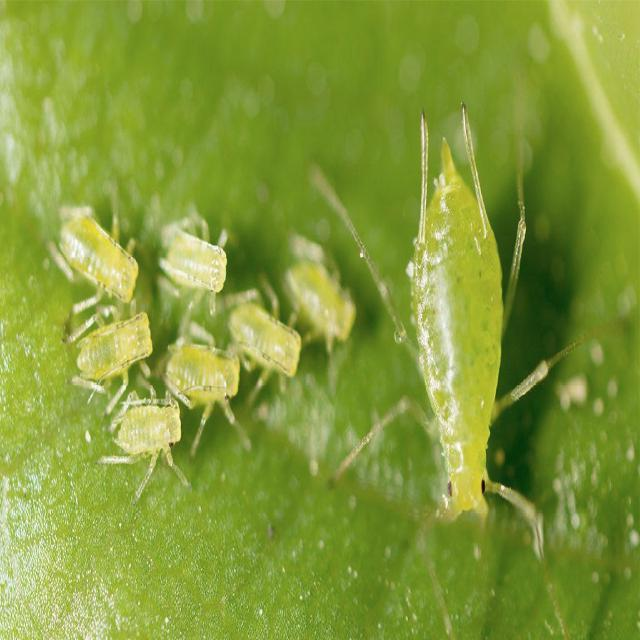aphid: (349, 63, 545, 547), (157, 306, 249, 448), (65, 289, 160, 421), (220, 278, 306, 413), (45, 193, 142, 310), (103, 387, 189, 514), (154, 210, 234, 310)
